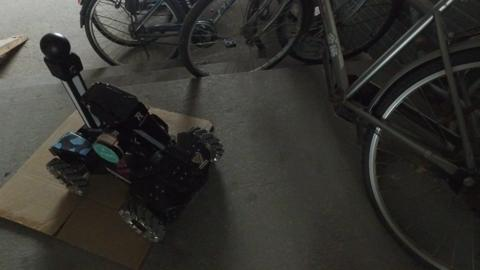chariot: (35, 31, 226, 240)
